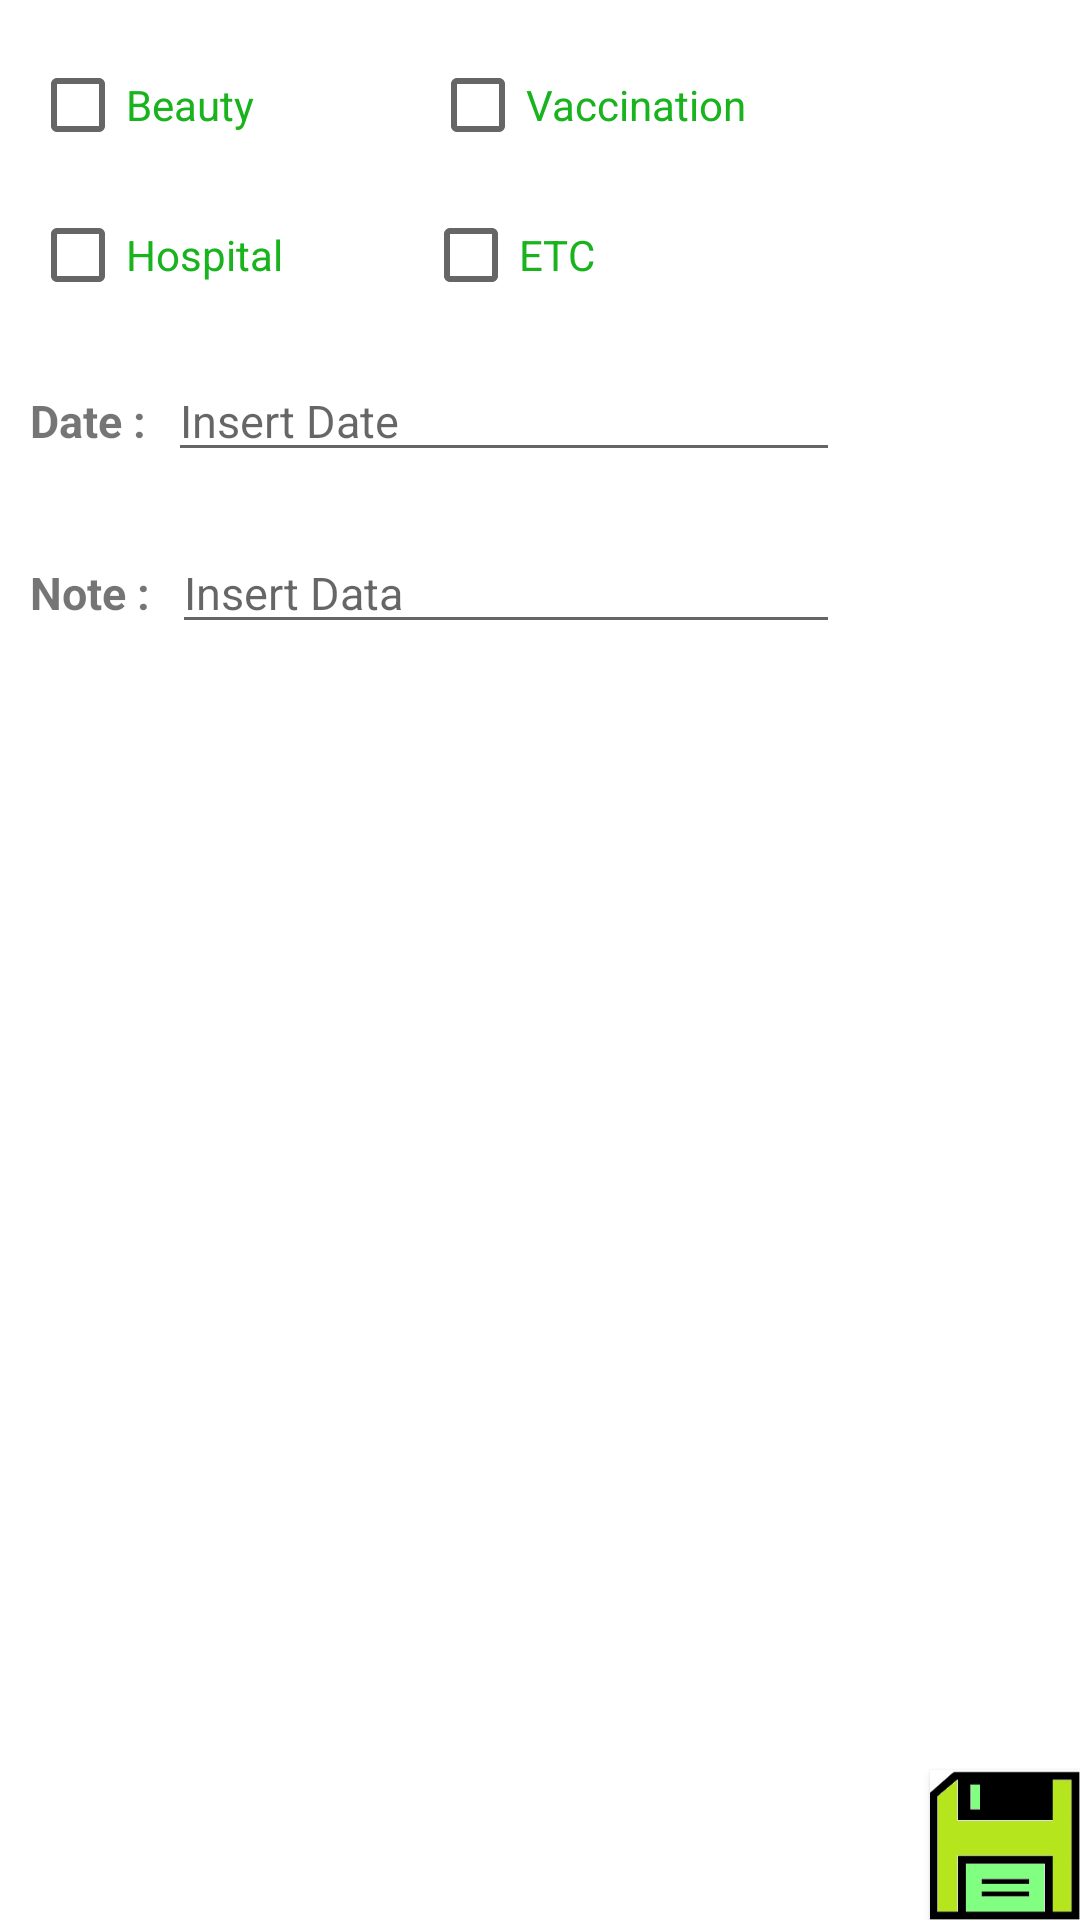

Screen size 1080x1920. Icon name, then its center in pixels as (x,y):
save: (1005,1845)
